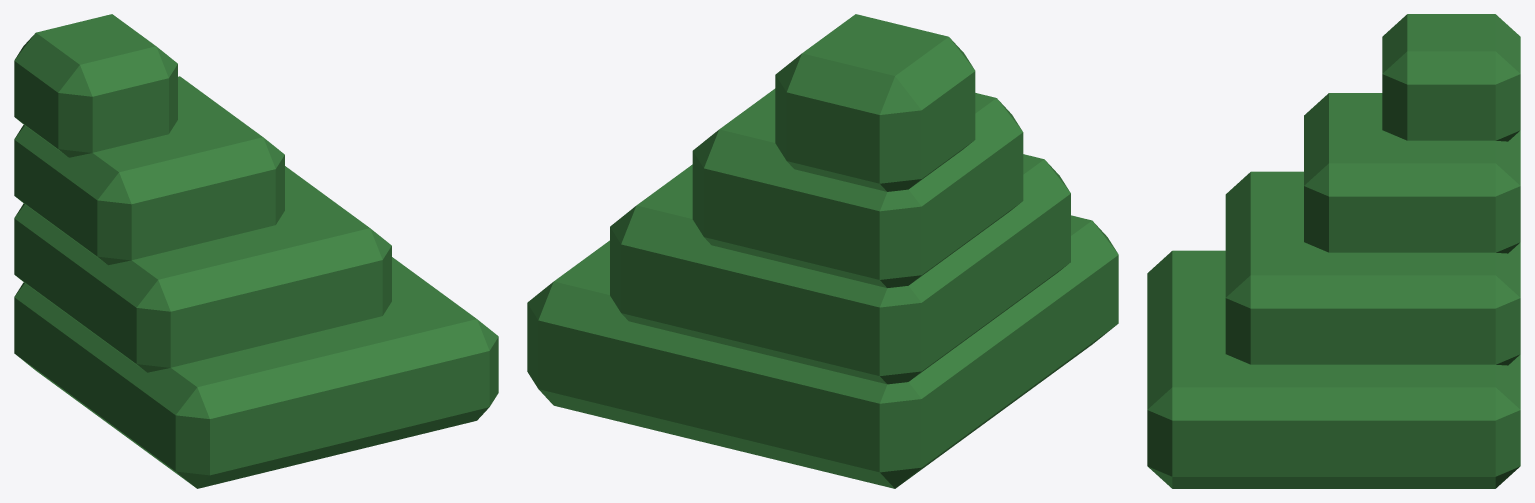
File: m_kub_dung_stairs_cornerOut.fbx
3 views of the same model, side by side, from view 1: azimuth 30°, elevation 25°; view 2: azimuth 150°, elevation 25°; view 3: azimuth 270°, elevation 25° (orthographic). The views are drawn at different scales.
Visible parts, largest first — view 1: m_kub_dung_stairs_cornerOut; view 2: m_kub_dung_stairs_cornerOut; view 3: m_kub_dung_stairs_cornerOut.
Boxes of the visible parts, x1,y1,x2,y2 form: m_kub_dung_stairs_cornerOut: [14, 14, 498, 488]; m_kub_dung_stairs_cornerOut: [527, 14, 1118, 488]; m_kub_dung_stairs_cornerOut: [1147, 14, 1520, 488].
Bounding box in the file's own units: 2.15 × 2.15 × 2.15.
